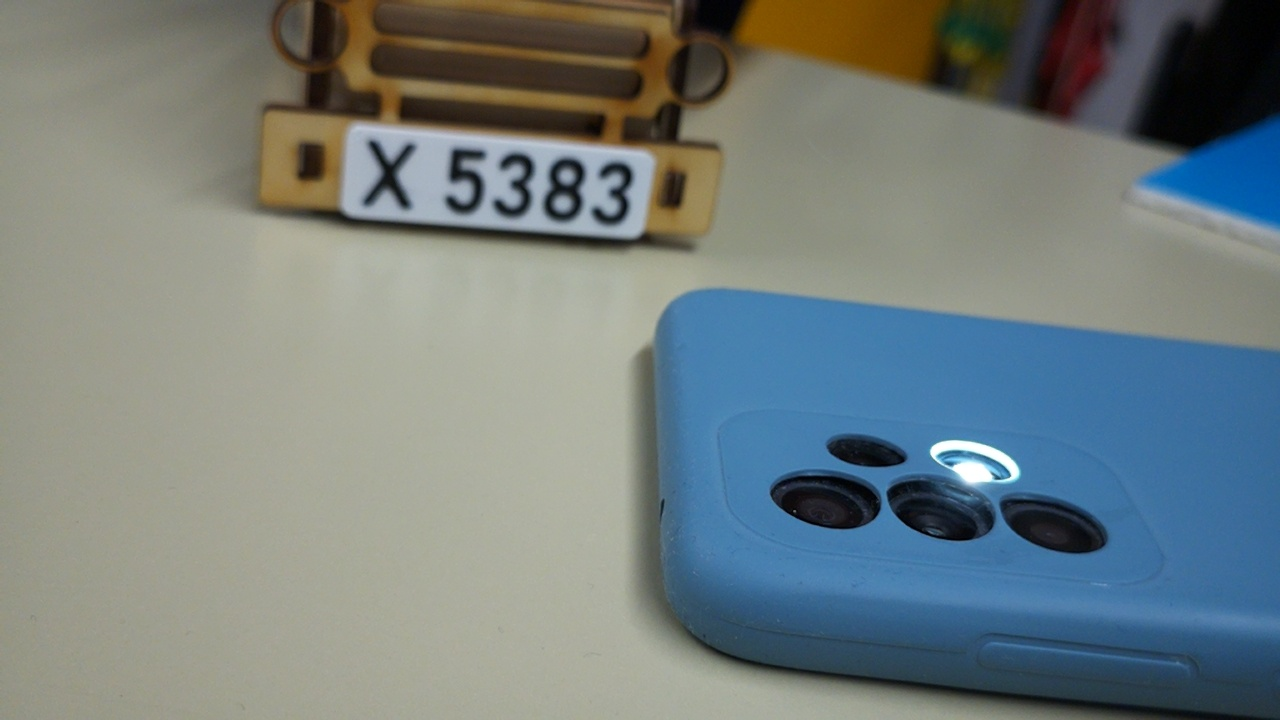license_plate: (342, 122, 660, 242)
